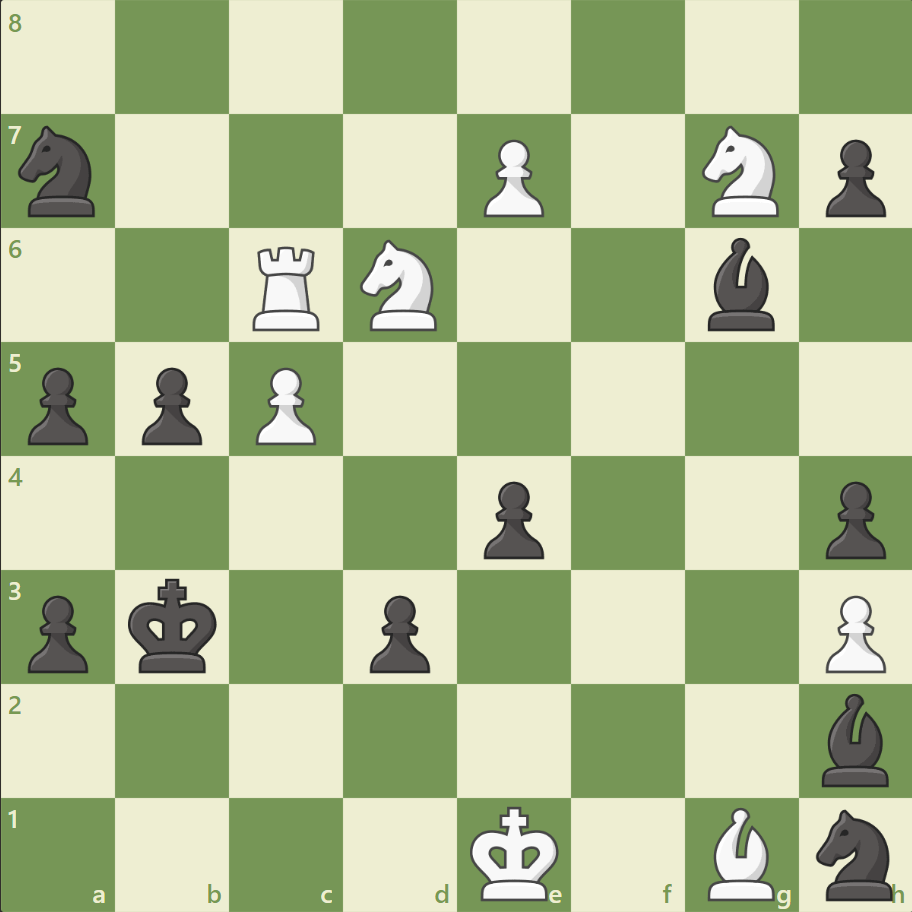B: (698, 801, 782, 904)
K: (465, 798, 565, 906)
N: (351, 234, 449, 337), (692, 121, 789, 223)
P: (474, 132, 549, 223), (247, 359, 322, 450), (815, 586, 889, 677)
R: (246, 239, 329, 336)
b: (698, 233, 782, 336), (812, 687, 896, 790)
k: (124, 571, 224, 679)
n: (11, 121, 108, 223), (806, 802, 903, 904)
p: (20, 359, 95, 450), (133, 359, 208, 450), (474, 473, 549, 564), (20, 586, 95, 677), (815, 132, 889, 223), (815, 473, 889, 564), (361, 586, 435, 677)
